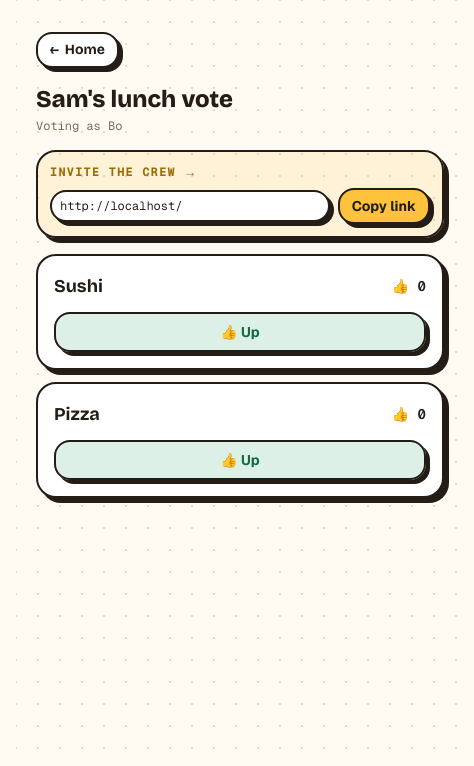
VoteRoom › marks an option as voted after a successful upvote
The width and height of the screenshot is (474, 766).
What coordinates should you click on to do the following:
click the button with aria-label "upvote sushi"
I would click on:
 (240, 332)
Its box is [54,312,426,352].
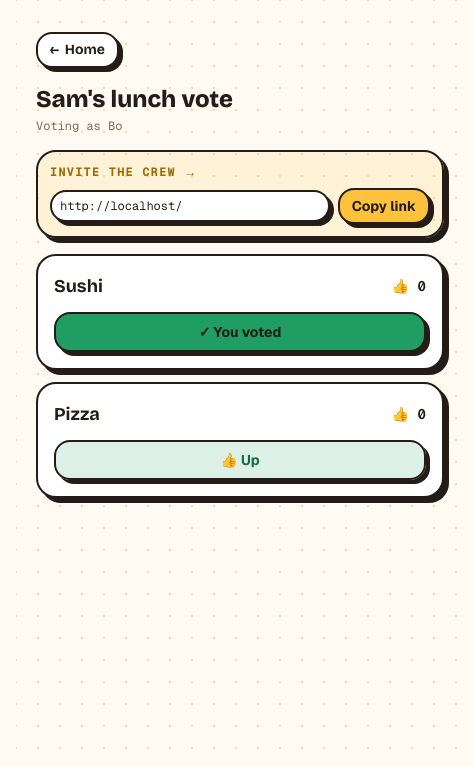
Expected: the button with aria-label "you upvoted sushi" is disabled, [54,312,426,352]
